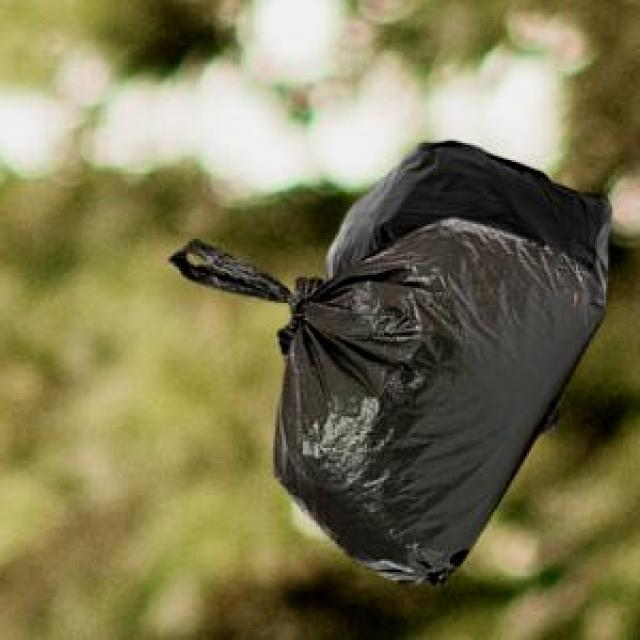Trashbag: (159, 208, 613, 596)
